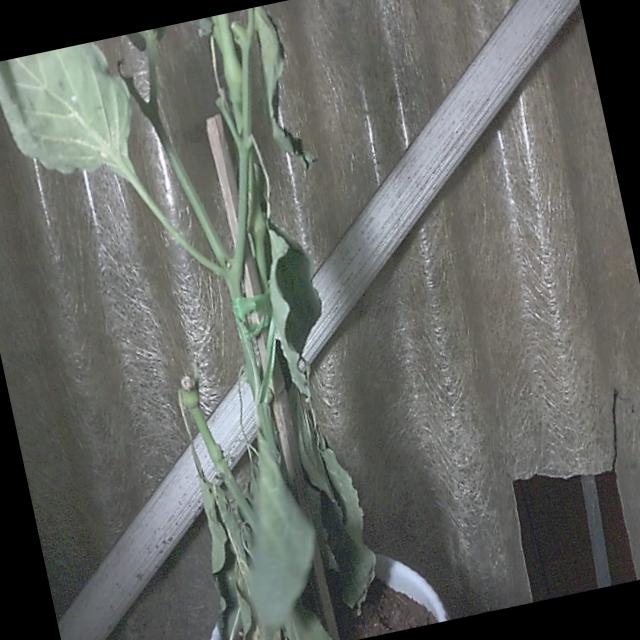Leaf: (289, 388, 374, 609), (0, 42, 130, 177), (248, 450, 314, 630), (253, 6, 314, 167), (268, 226, 320, 398), (283, 601, 331, 639), (127, 27, 162, 51)
